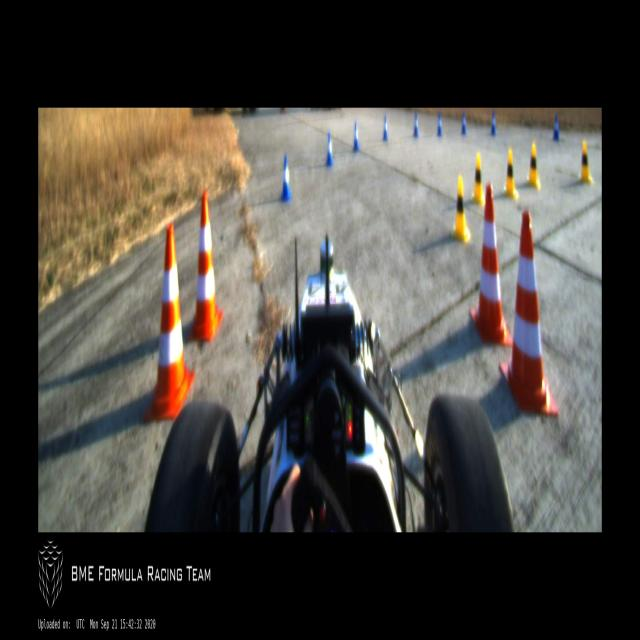blue_cone: (279, 155, 292, 202), (325, 132, 334, 166), (353, 123, 359, 151), (382, 115, 388, 142), (490, 112, 497, 134), (553, 115, 559, 140), (413, 112, 418, 137), (437, 112, 442, 137), (461, 111, 466, 135)
large_orange_cone: (500, 212, 560, 416), (143, 223, 195, 423), (470, 184, 513, 345), (186, 192, 224, 340)
yellow_cone: (453, 174, 470, 241), (471, 152, 485, 206), (503, 150, 518, 198), (526, 143, 540, 189), (578, 140, 592, 183)
